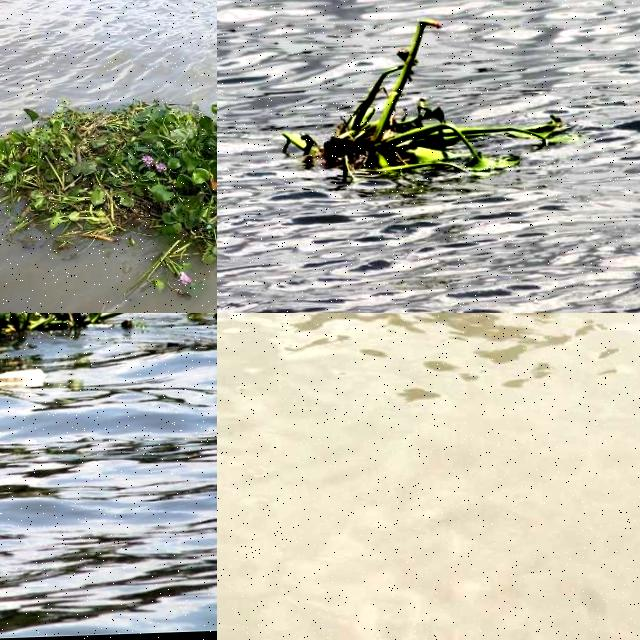water-hyacinth: (1, 38, 218, 308), (287, 16, 554, 193), (1, 314, 116, 342)
